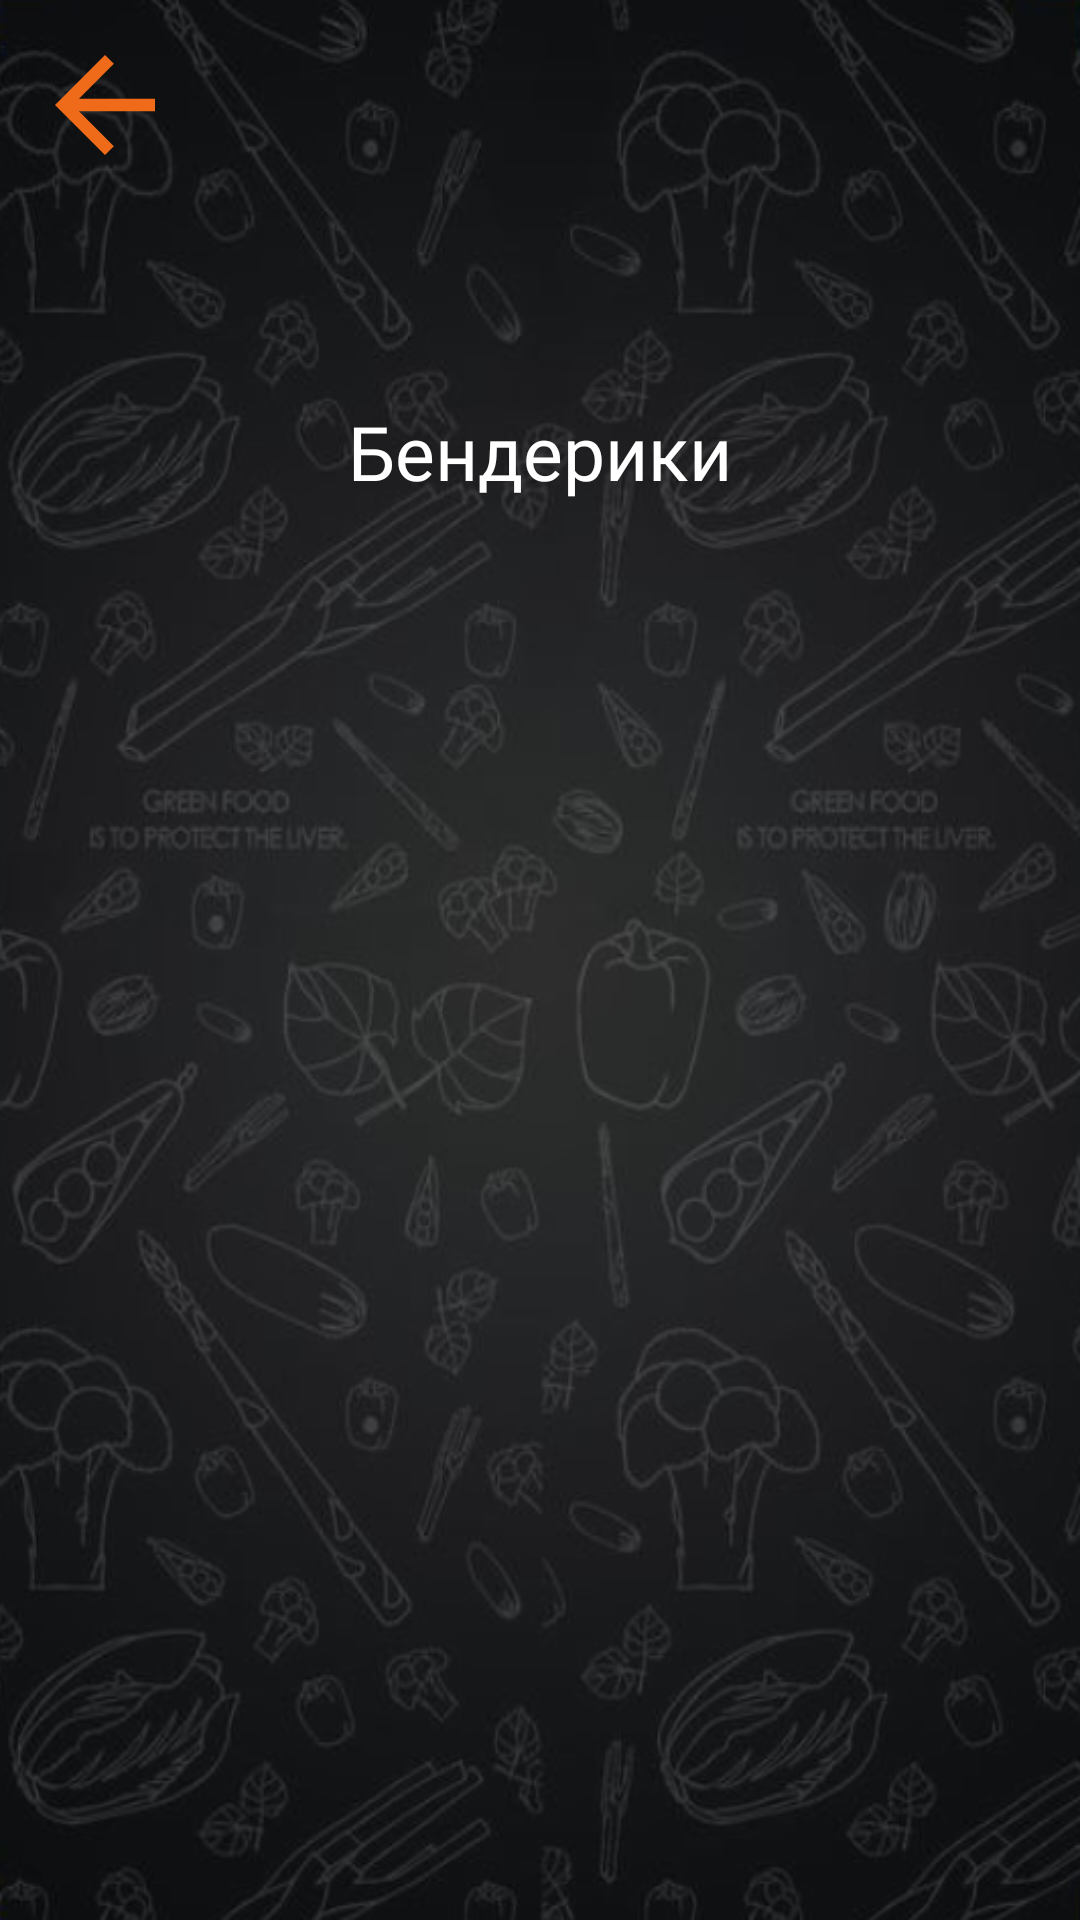

Icon bounding boxes for this 1080 × 1920 phone screenshot, format (x1, y1, x2, y2):
arrow back: (40, 32, 180, 180)
